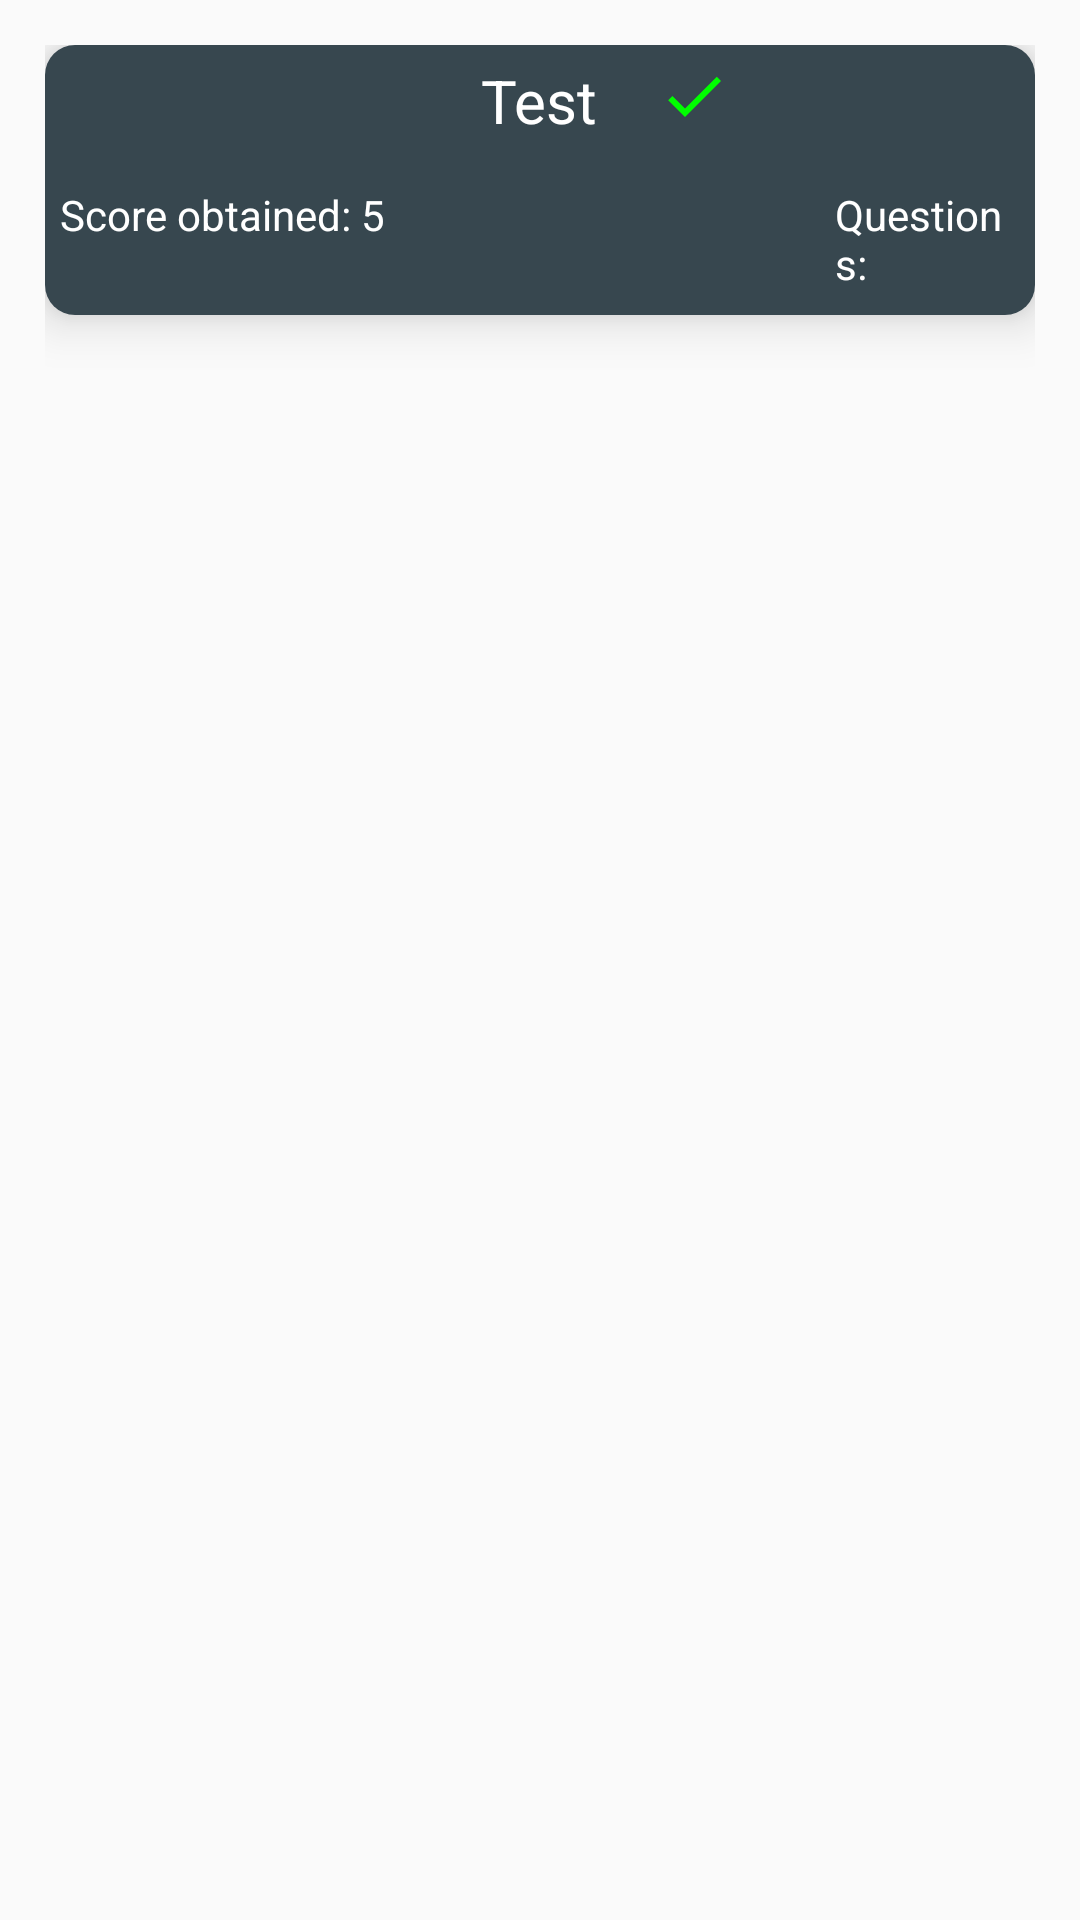

Where icons sit on this 1080×1920 app screen, as (x1, y1, x2, y2):
done: (668, 77, 721, 117)
